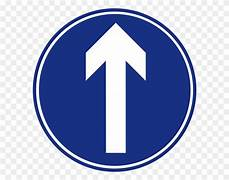forward: (32, 8, 197, 171)
